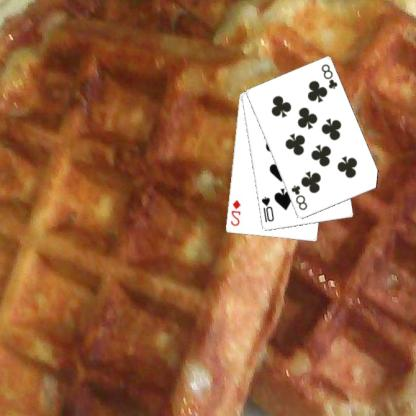10S: (260, 194, 277, 224)
2D: (229, 198, 244, 228)
8C: (320, 61, 341, 90), (290, 182, 310, 212)
